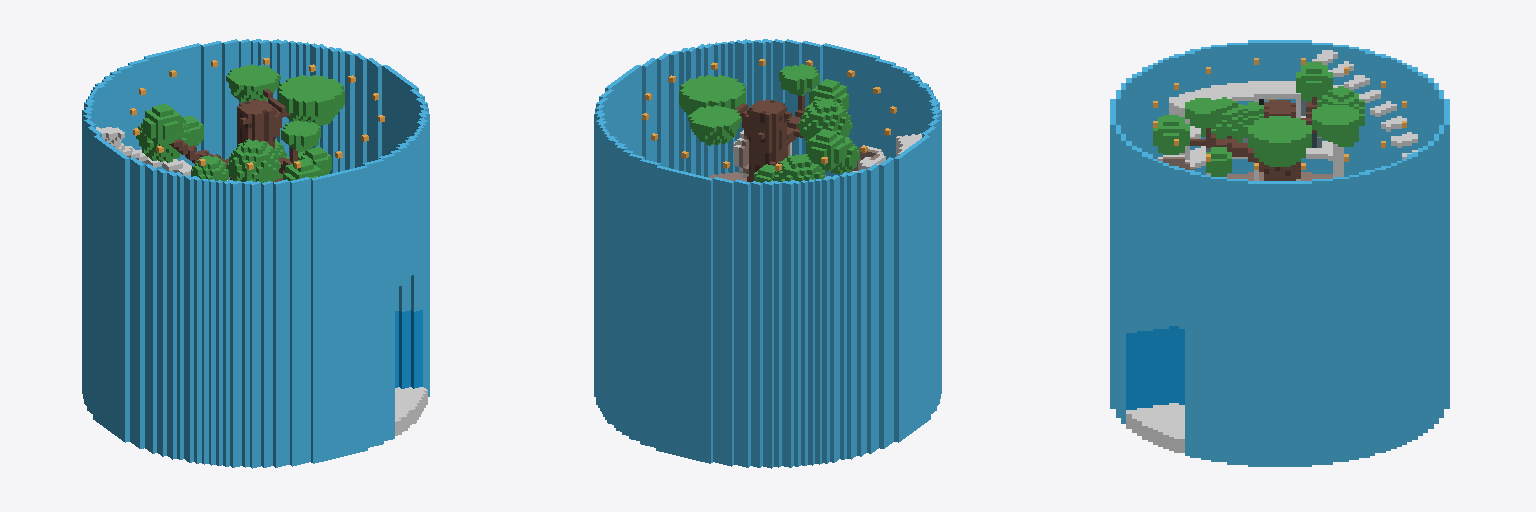
3 views of the same model, side by side, from view 1: azimuth 30°, elevation 25°; view 2: azimuth 150°, elevation 25°; view 3: azimuth 270°, elevation 25° (orthographic).
Bounding box in the file's own units: 64 × 64 × 64.
1 materials, 1 textured.